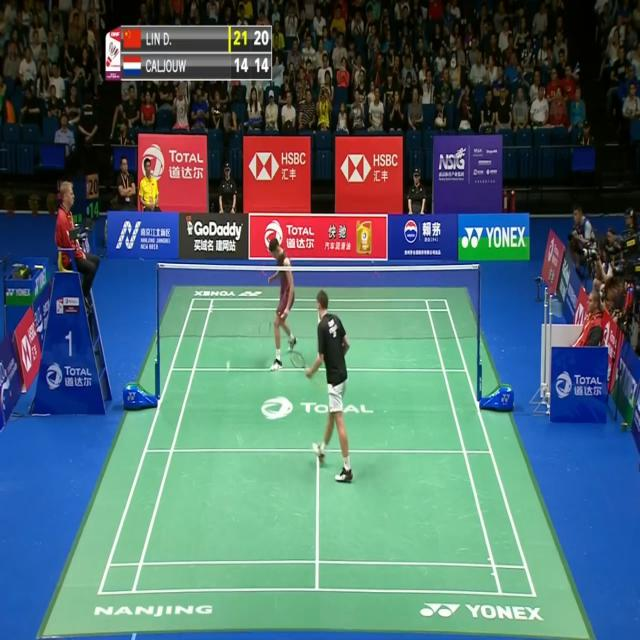Player1: (301, 285, 361, 487)
Player2: (262, 226, 300, 375)
